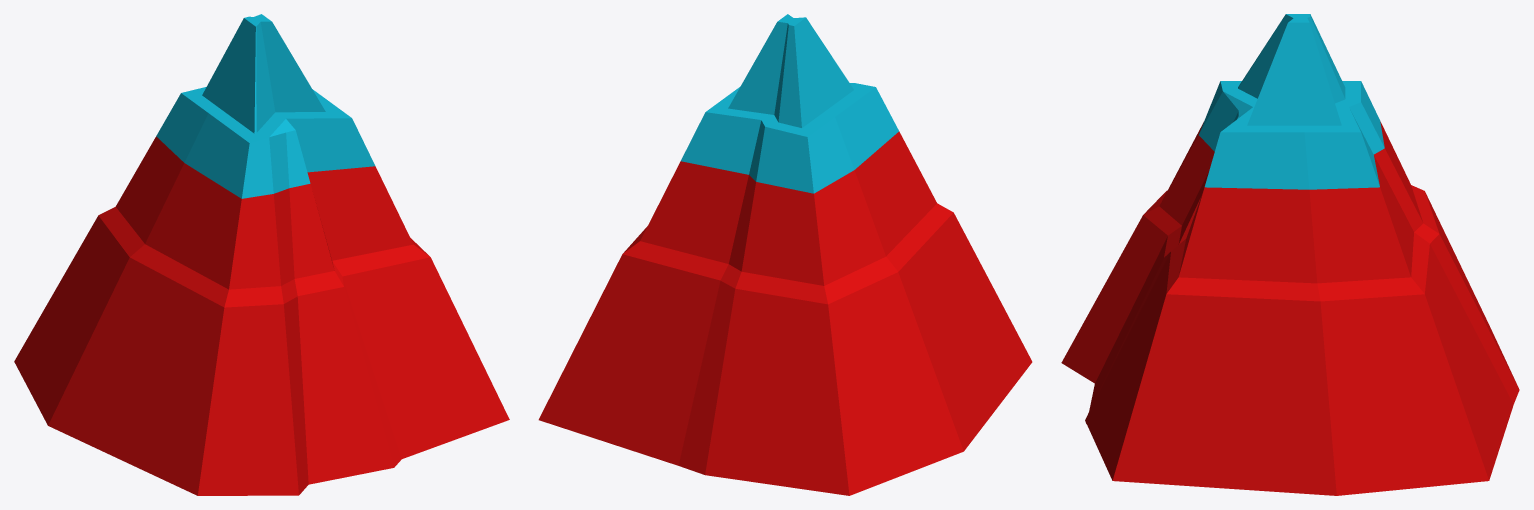
Rendered from Bigmontagne.FBX.
3 views of the same model, side by side, from view 1: azimuth 30°, elevation 25°; view 2: azimuth 150°, elevation 25°; view 3: azimuth 270°, elevation 25° (orthographic). The views are drawn at different scales.
Parts seen in each view (by area): view 1: Box009; view 2: Box009; view 3: Box009.
Boxes of the visible parts, box(x1,y1,x2,y2) form: Box009: box(14, 14, 509, 495); Box009: box(538, 14, 1032, 495); Box009: box(1061, 14, 1519, 495).
Size of the model in its own units: 0.2583 by 0.2453 by 0.2614.
